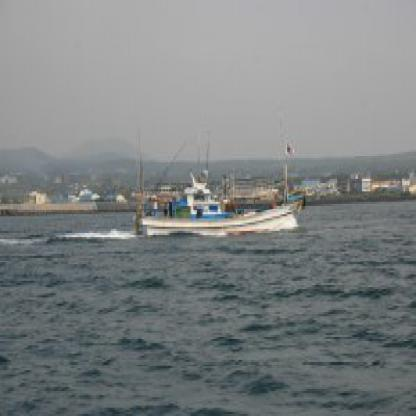fish-b: (119, 108, 324, 262)
